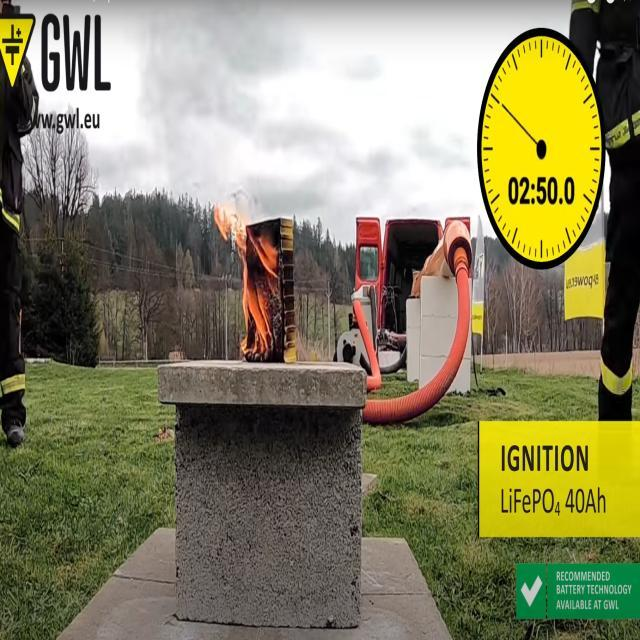Fire: (213, 194, 283, 365)
